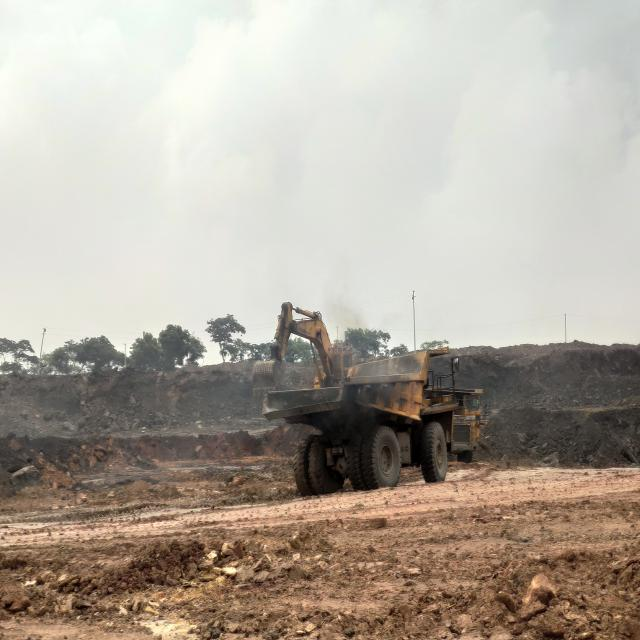dump_truck: (262, 348, 456, 496), (448, 392, 486, 464)
excavator: (252, 302, 368, 391)
